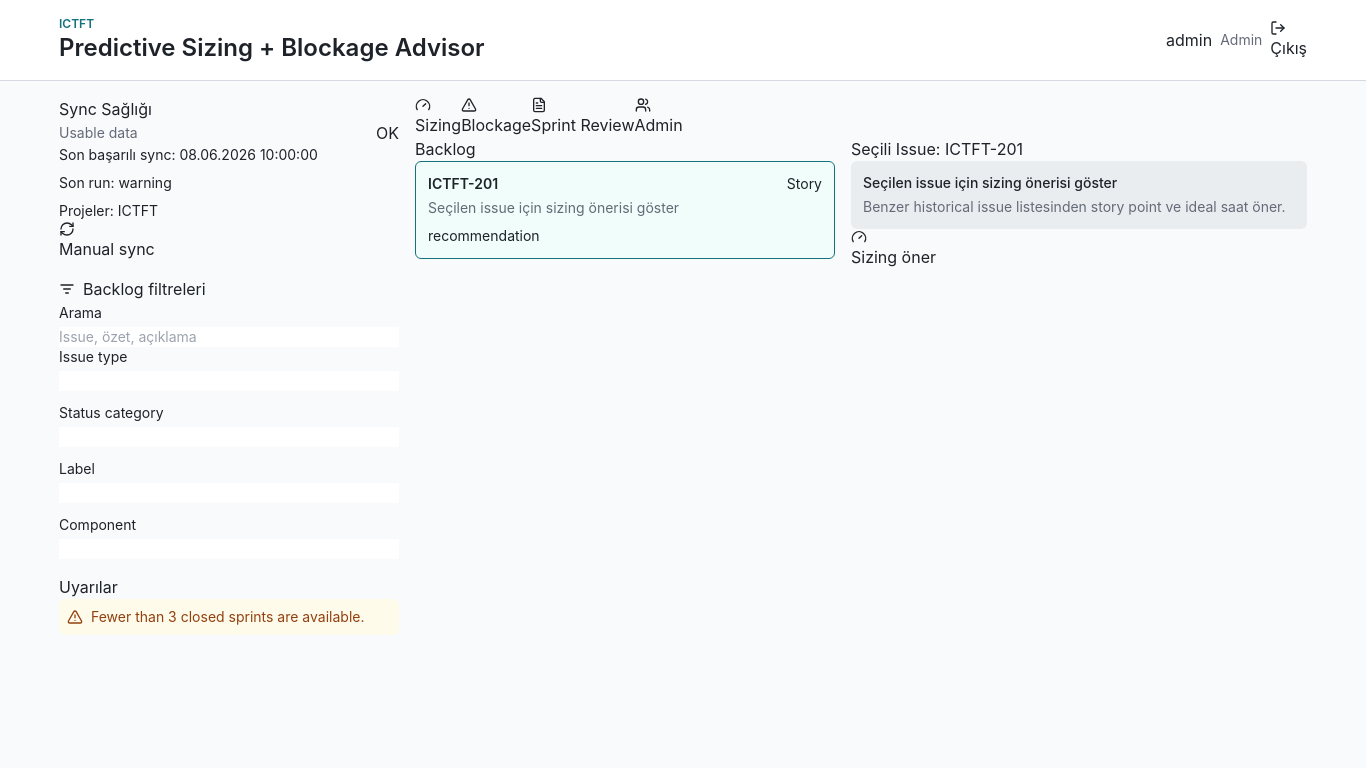
DeliveryDashboard › bootstraps session and renders API-backed backlog, sync warnings, sizing, and blockage
Check: the heading "Predictive Sizing + Blockage Advisor" is shown, box [59,32,485,64]
Check: the button "ICTFT-201" is shown, box [415,161,835,259]
Click the button "Sizing öner" at (894, 249), box [851,229,936,269]
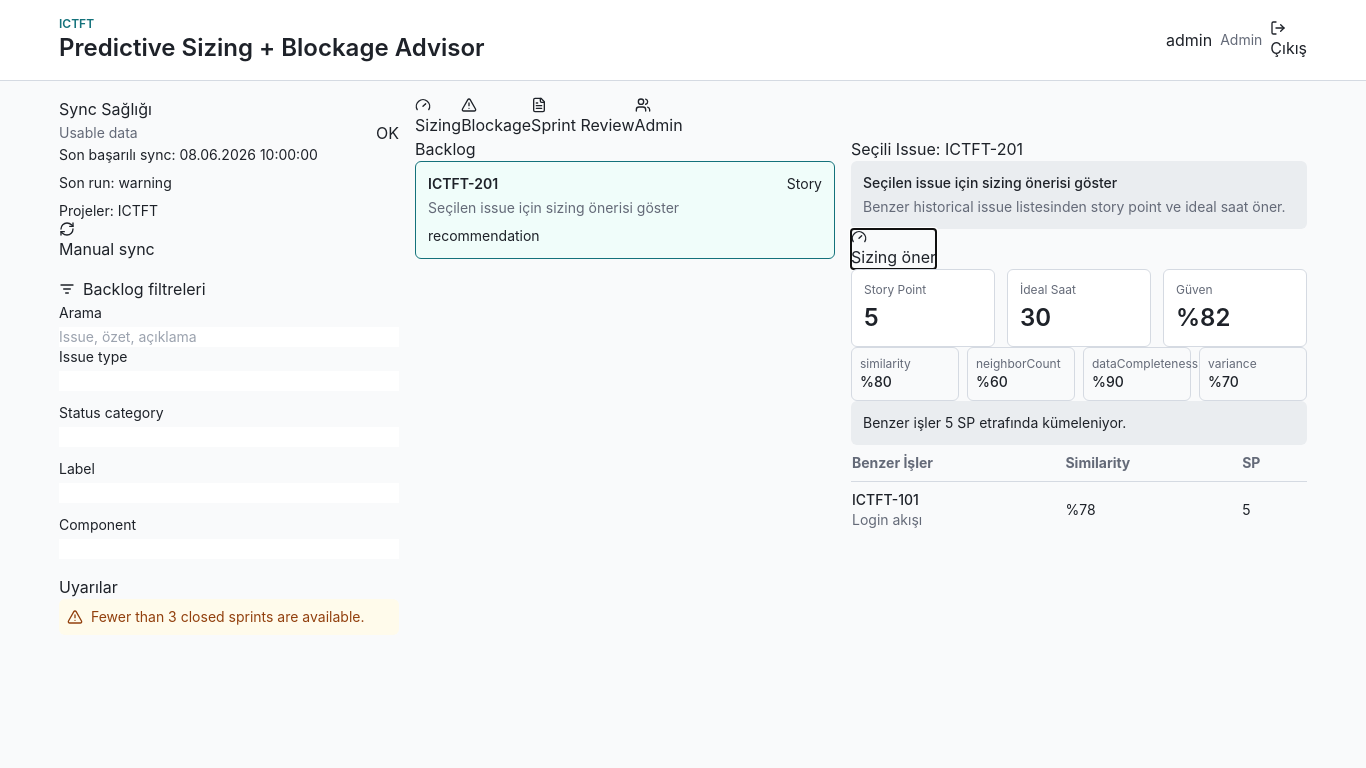
Check: the text "Benzer işler 5 SP etrafında kümeleniyor." is shown, box [851,401,1307,445]
Check: the text "ICTFT-101" is shown, box [852,491,919,508]
Click the tab "Blockage" at (496, 117), box [461,97,531,137]
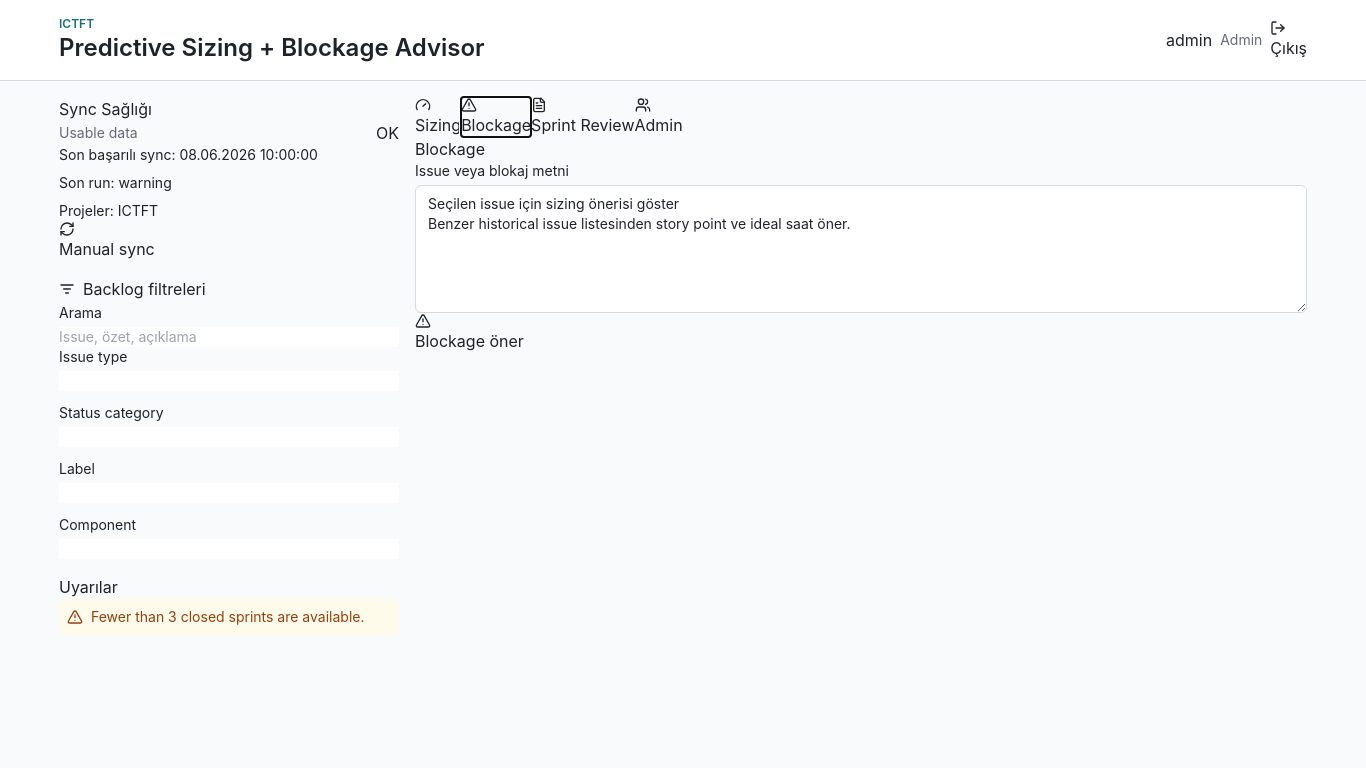
Click the button "Blockage öner" at (469, 333), box [415,313,524,353]
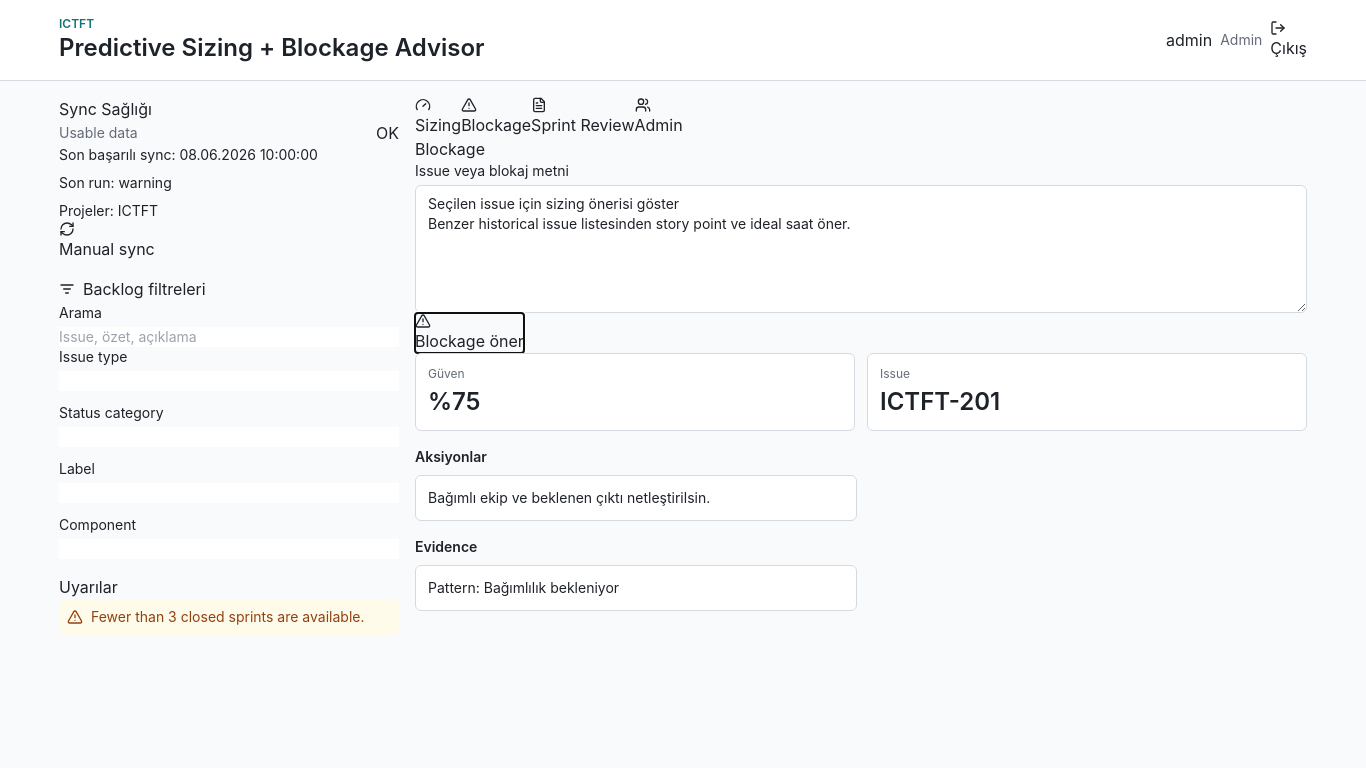
Check: the text "Bağımlı ekip ve beklenen çıktı netleştirilsin." is shown, box [415,475,857,521]
